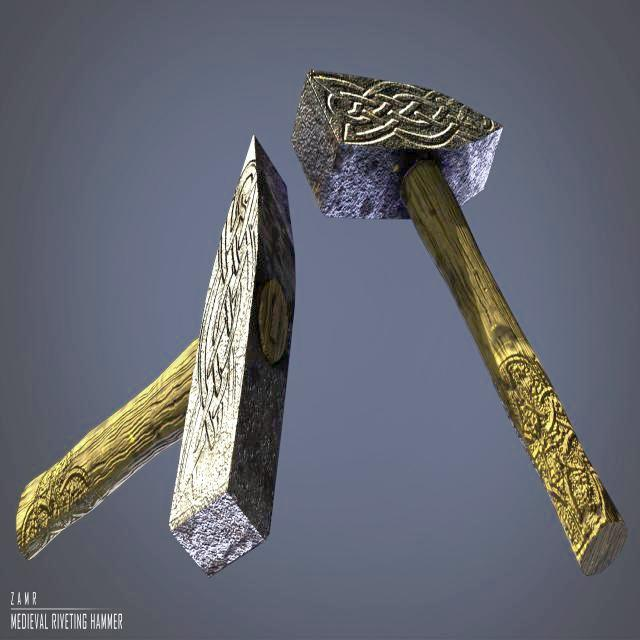hammer: (286, 58, 638, 589), (10, 122, 299, 586)
